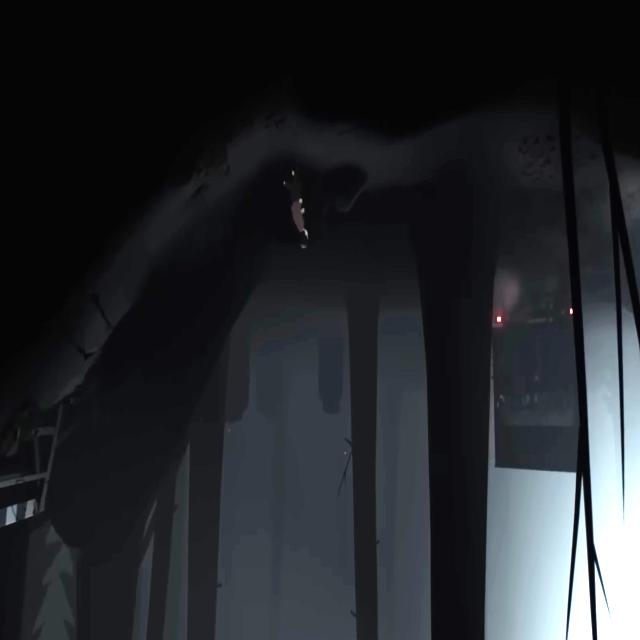boy: (283, 165, 309, 249)
